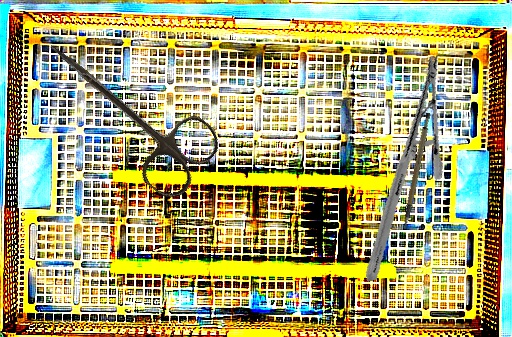Iris Scissors: (21, 15, 227, 206)
Needle Holder: (321, 55, 484, 282)
Scalpel Handle: (384, 111, 447, 230)
